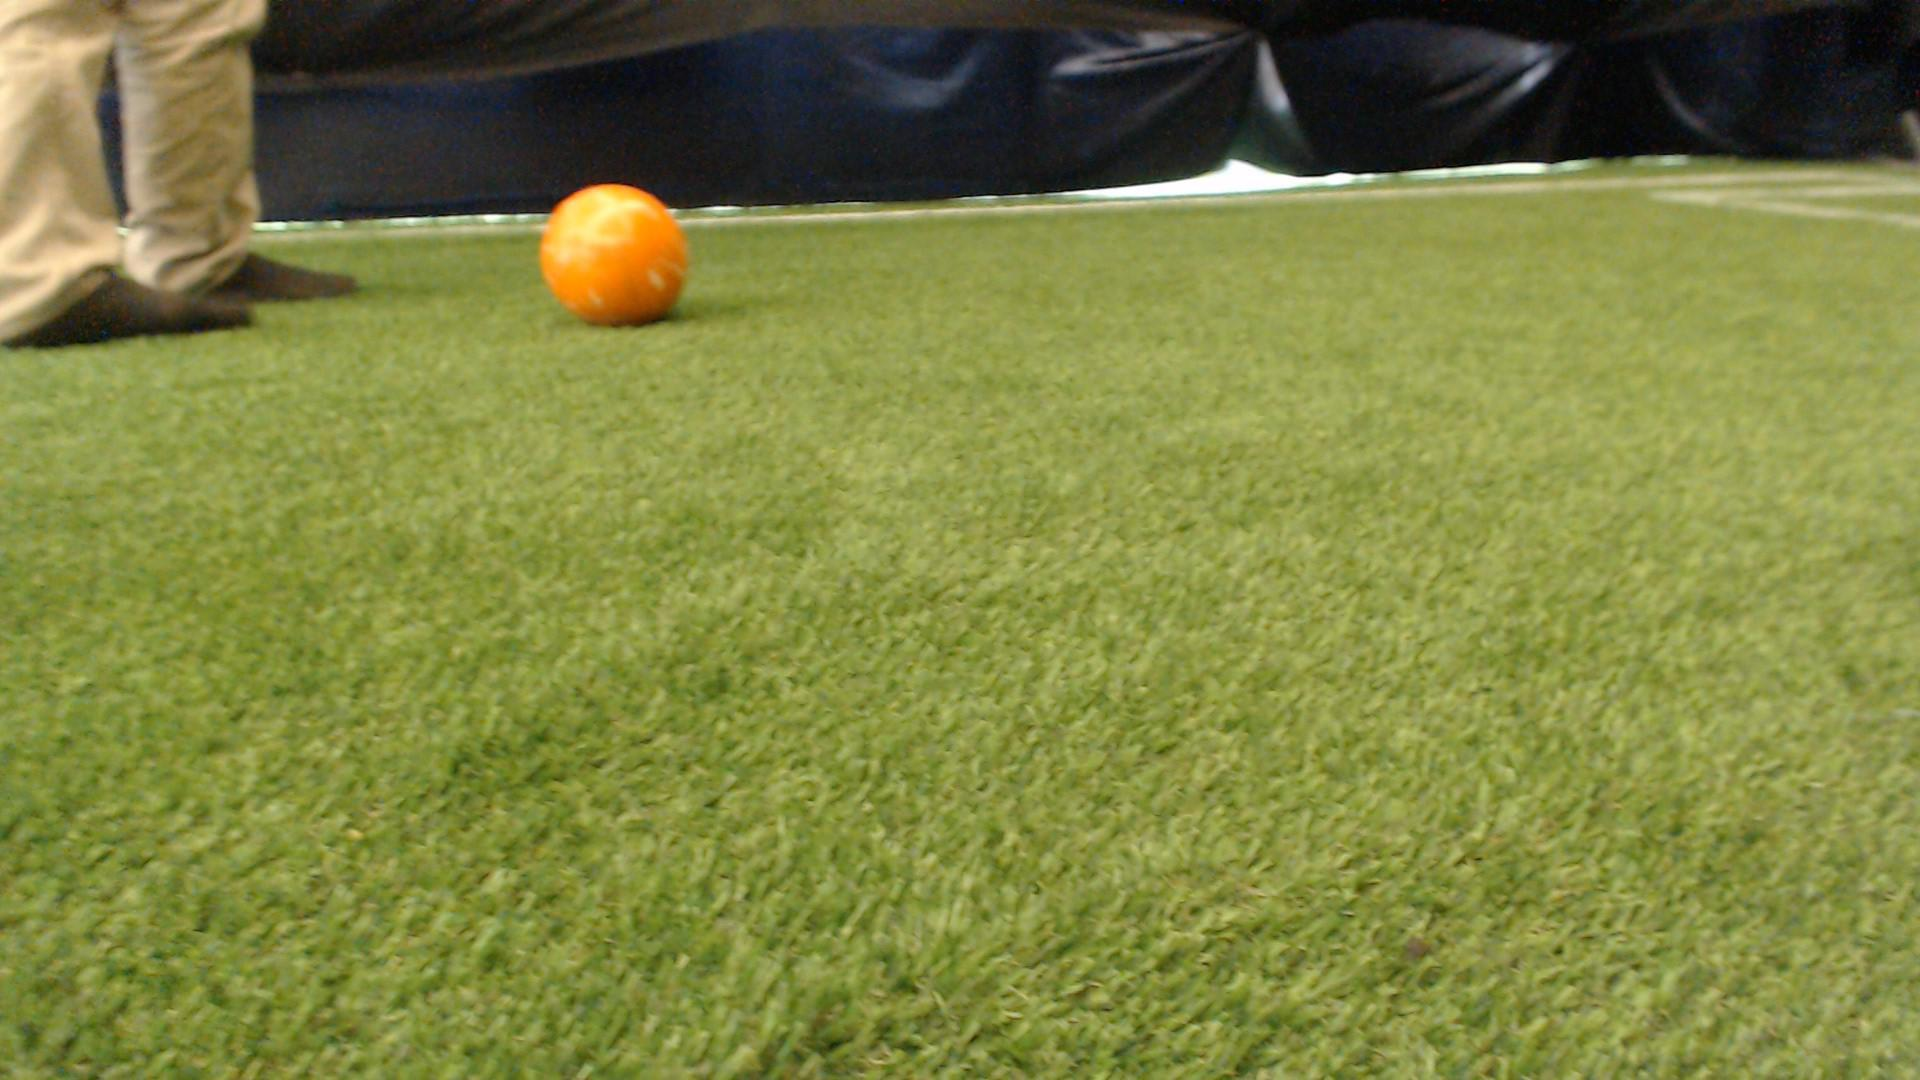bola: (525, 162, 738, 357)
